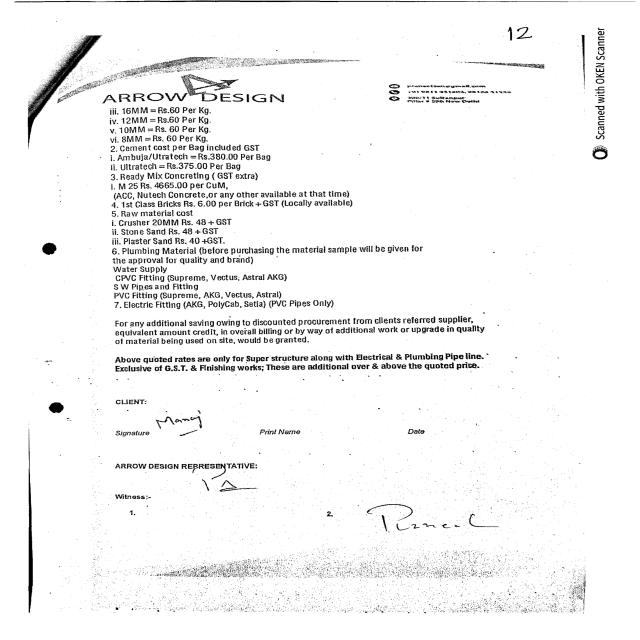page-number: (413, 0, 575, 57)
